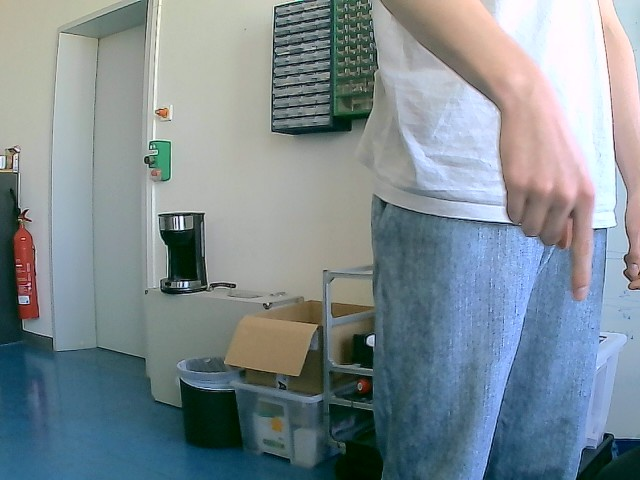down: (496, 90, 597, 302)
